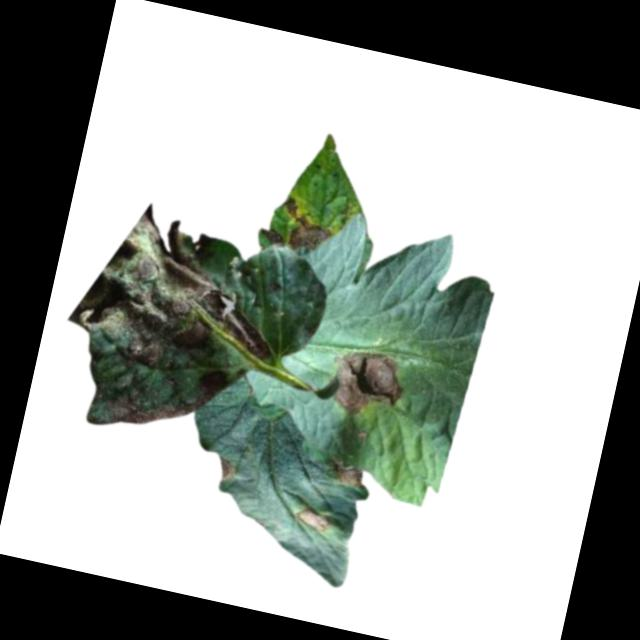Early_blight: (49, 193, 297, 460), (324, 342, 408, 424), (274, 194, 339, 258), (323, 460, 365, 492), (294, 508, 332, 536), (210, 454, 239, 486), (257, 225, 287, 251)
